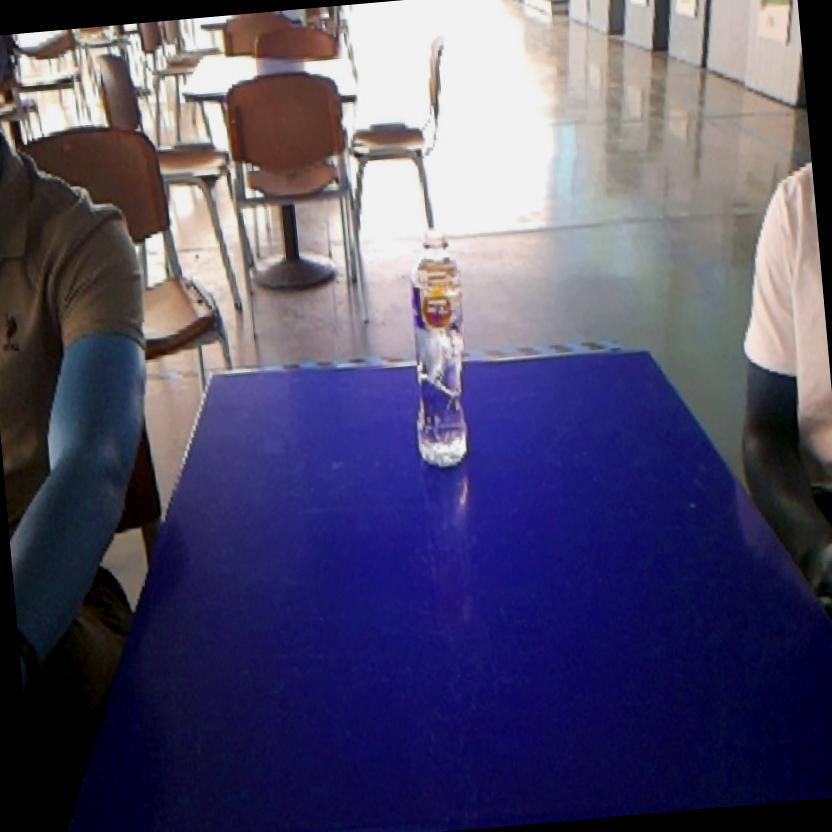no_cap: (392, 219, 488, 477)
